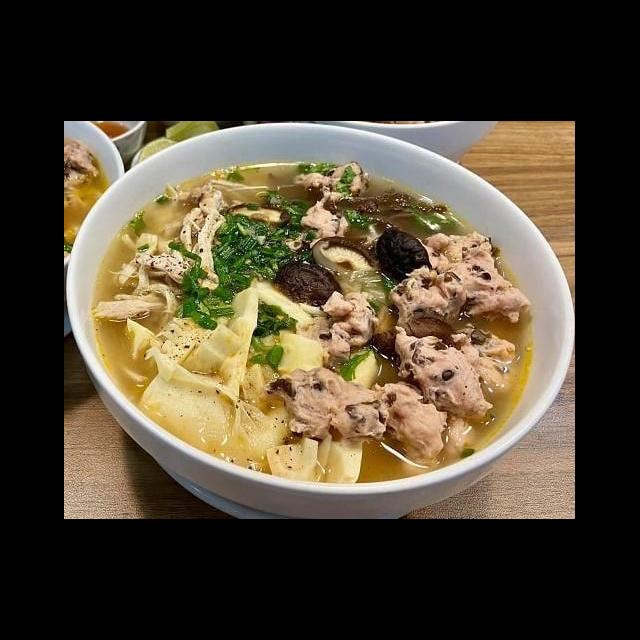vien moc: (418, 230, 538, 332), (388, 325, 499, 433), (266, 364, 398, 450), (368, 379, 449, 470), (386, 259, 468, 339), (450, 323, 522, 396), (292, 159, 372, 200), (301, 194, 354, 242)
